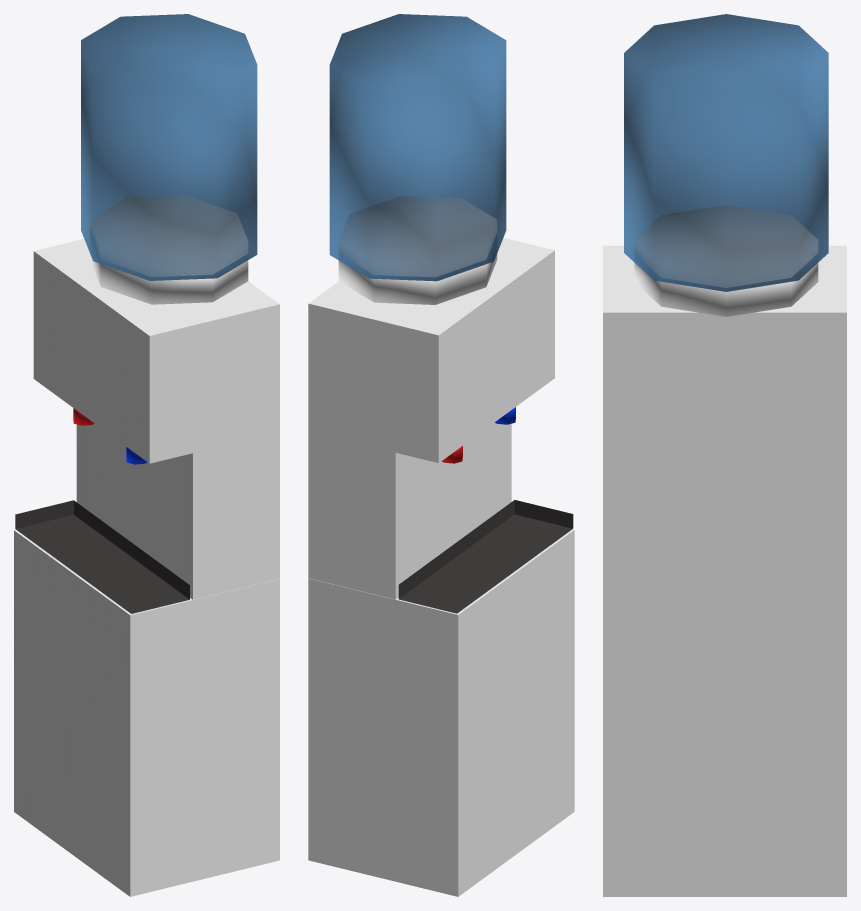
The model's file is WaterCooler.obj.
3 views of the same model, side by side, from view 1: azimuth 30°, elevation 25°; view 2: azimuth 150°, elevation 25°; view 3: azimuth 270°, elevation 25° (orthographic). The views are drawn at different scales.
Parts seen in each view (by area): view 1: WaterCooler; view 2: WaterCooler; view 3: WaterCooler.
Part boxes in pixels (x1=…): WaterCooler: x1=14, y1=14, x2=279, y2=896; WaterCooler: x1=308, y1=14, x2=574, y2=896; WaterCooler: x1=603, y1=14, x2=846, y2=896.
Size of the model in its own units: 1.16 by 4.99 by 1.35.
